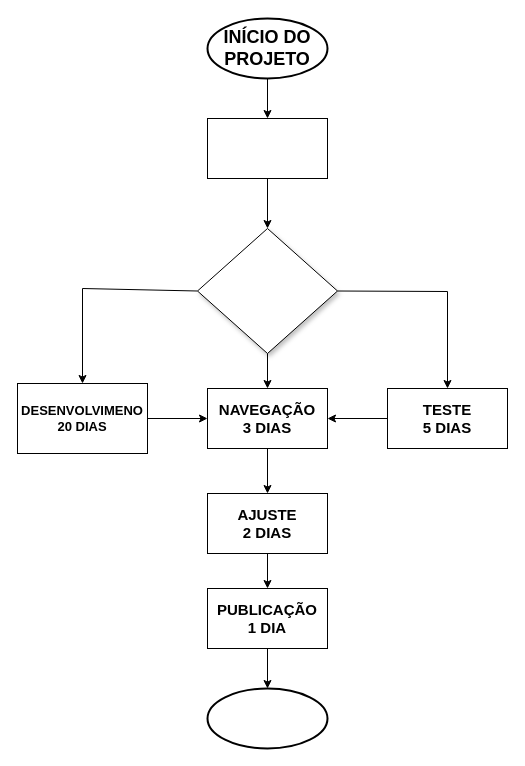
Some shapes in this 525 by 766 pixel diagram are drawn without their labels. The centre of each missing label's shape, as x and y in pixels:
"ESTRUTURA 9 DIAS" goes at (x=268, y=292).
"FIM DO PROJETO" goes at (x=267, y=718).
"PLANEJAMENTO 11 DIAS" goes at (x=267, y=148).
